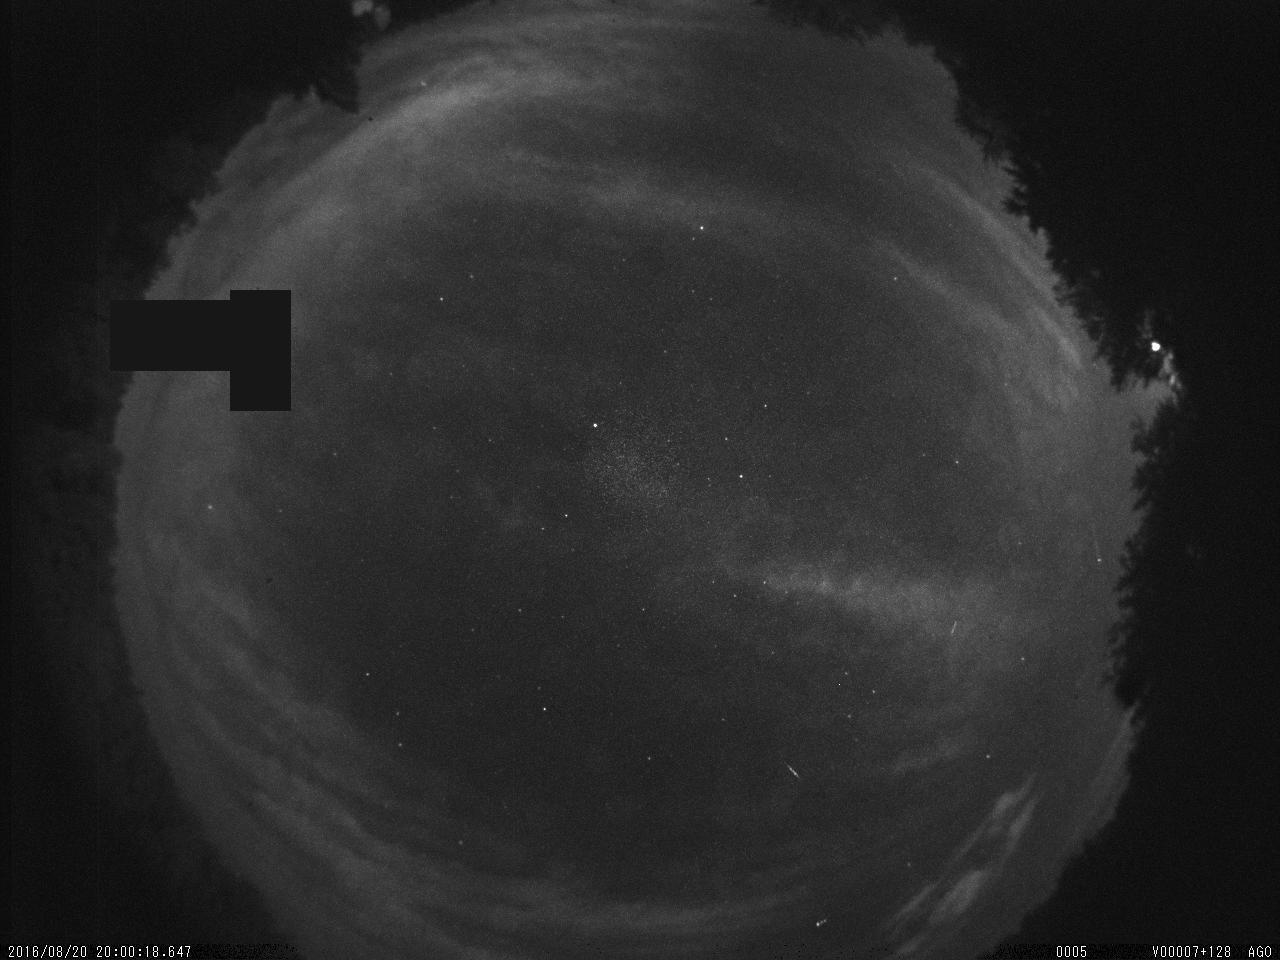meteor: (780, 757, 808, 788), (946, 617, 965, 639)
